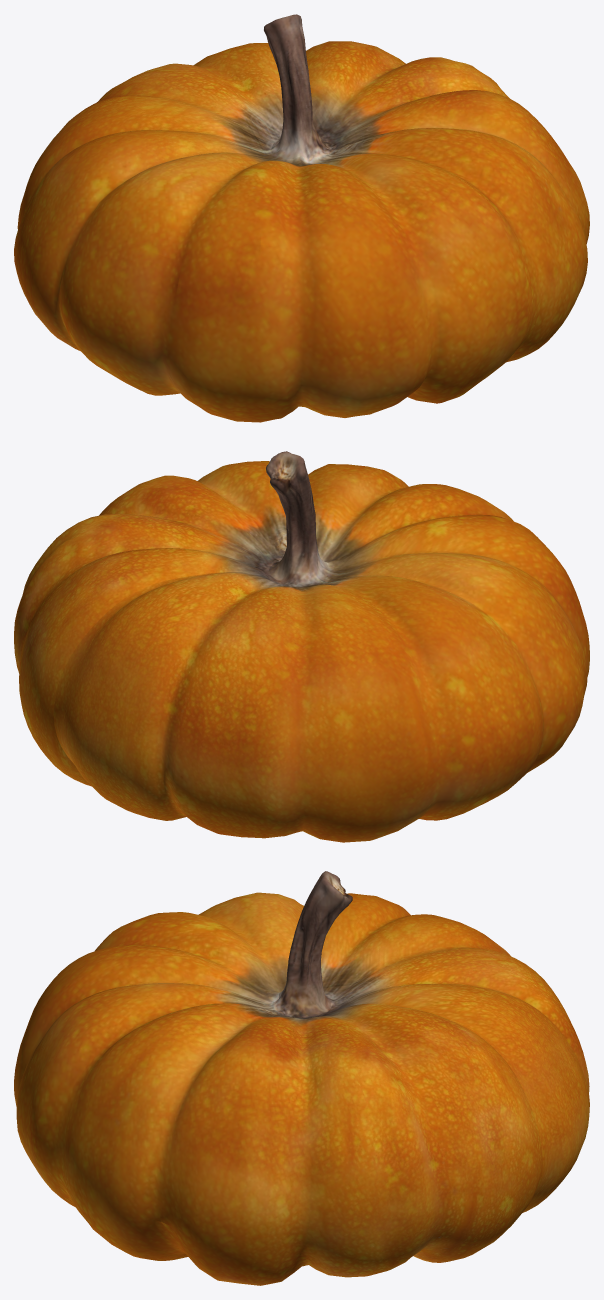
The model's file is original_pumpkin.obj.
3 renders of one model, top to bottom at view 1: azimuth 30°, elevation 25°; view 2: azimuth 150°, elevation 25°; view 3: azimuth 270°, elevation 25°, orthographic.
Bounding box in the file's own units: 102 × 62.69 × 99.94.
1 material, 1 textured.
